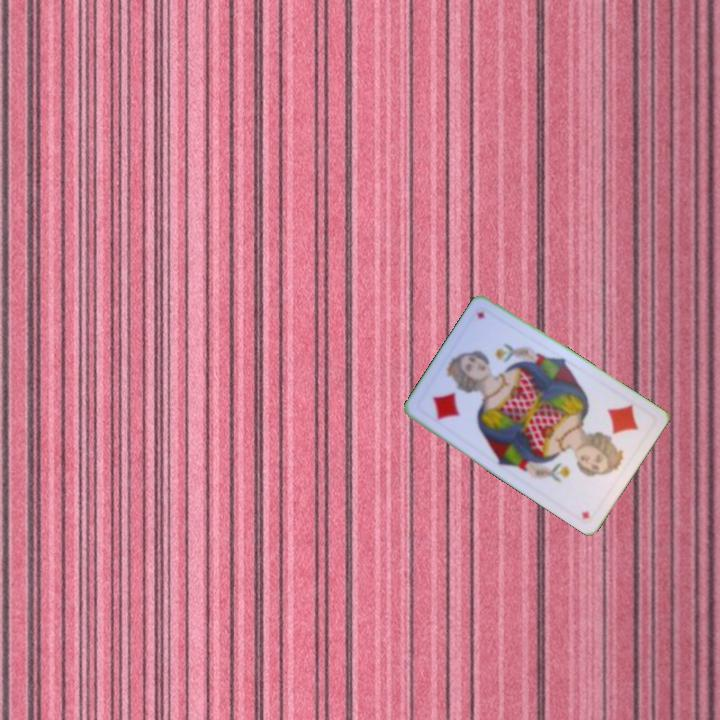d_q.png: (413, 355, 496, 441), (575, 387, 658, 473)
